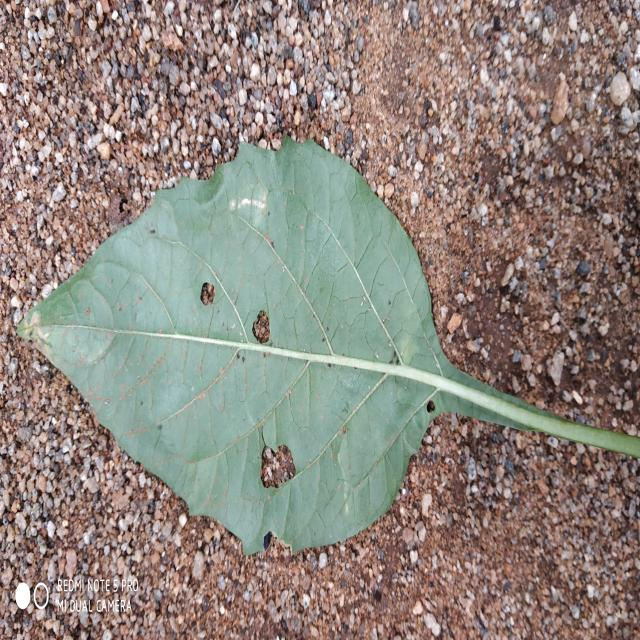ganike: (19, 138, 640, 556)
